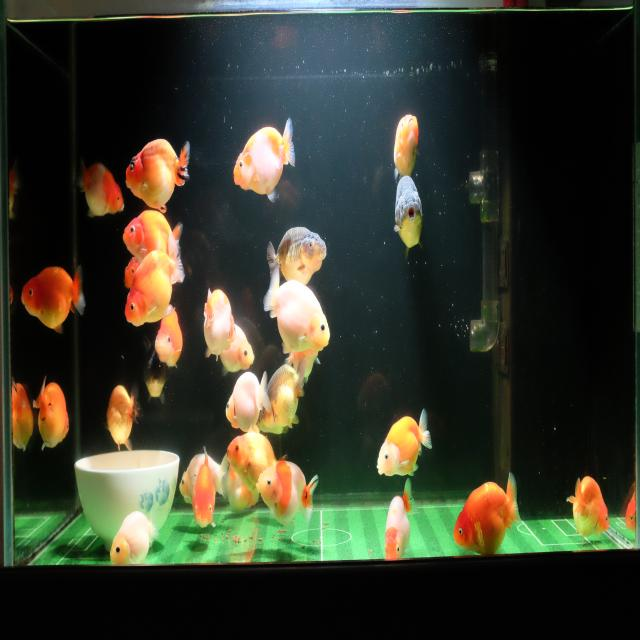Goldfish: (123, 229, 187, 331), (262, 264, 332, 356), (452, 469, 520, 556), (232, 115, 296, 202), (124, 134, 191, 215), (19, 262, 88, 336), (373, 405, 433, 482), (254, 459, 320, 528), (224, 431, 286, 502), (266, 222, 329, 286), (259, 353, 308, 433), (31, 369, 72, 457), (73, 151, 125, 219), (120, 204, 182, 259), (224, 363, 271, 435), (564, 471, 610, 542), (102, 378, 142, 459), (179, 446, 227, 510), (382, 478, 418, 562), (392, 174, 424, 264), (109, 508, 158, 563), (203, 285, 236, 360), (152, 302, 185, 373), (191, 446, 218, 532), (218, 319, 256, 380), (392, 106, 420, 185), (142, 329, 168, 414), (11, 374, 35, 454), (624, 475, 636, 539), (123, 253, 139, 291)
